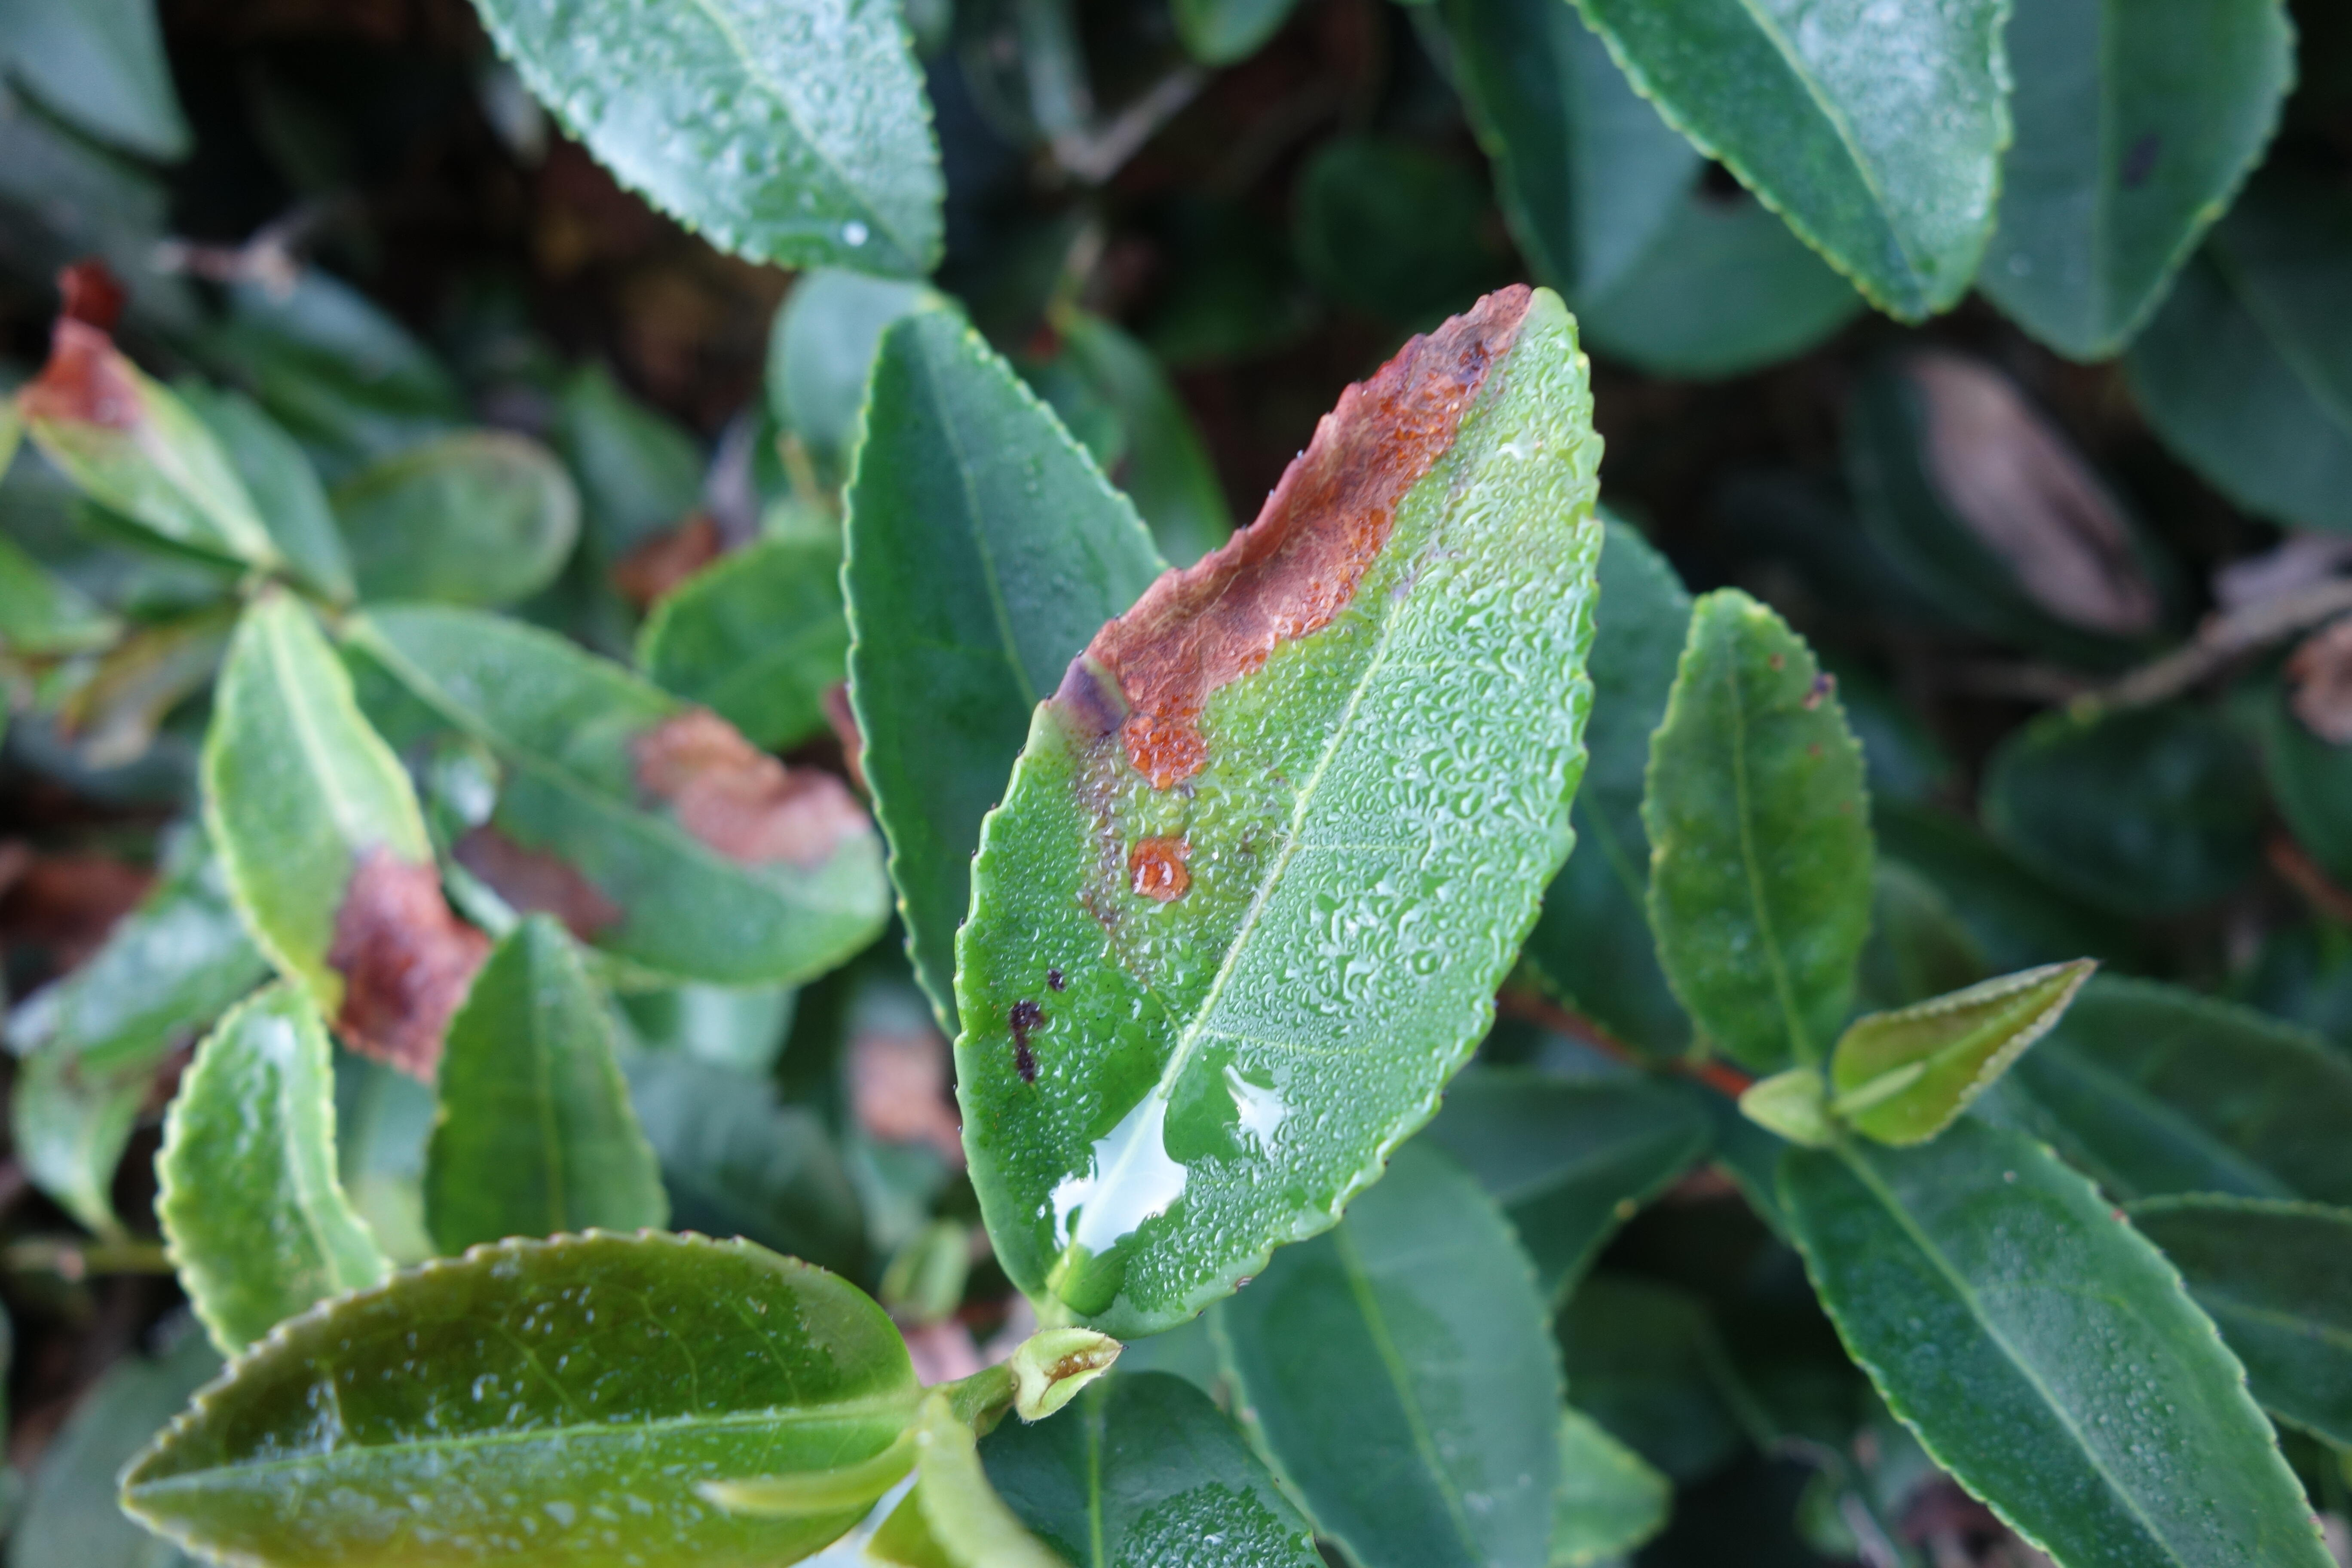healthy: (115, 1230, 945, 1559)
tanju_high: (950, 282, 1606, 1335), (327, 598, 894, 989), (201, 583, 492, 1080), (21, 317, 282, 560)
tanju_low: (1638, 583, 1872, 1078), (1829, 955, 2100, 1151)
